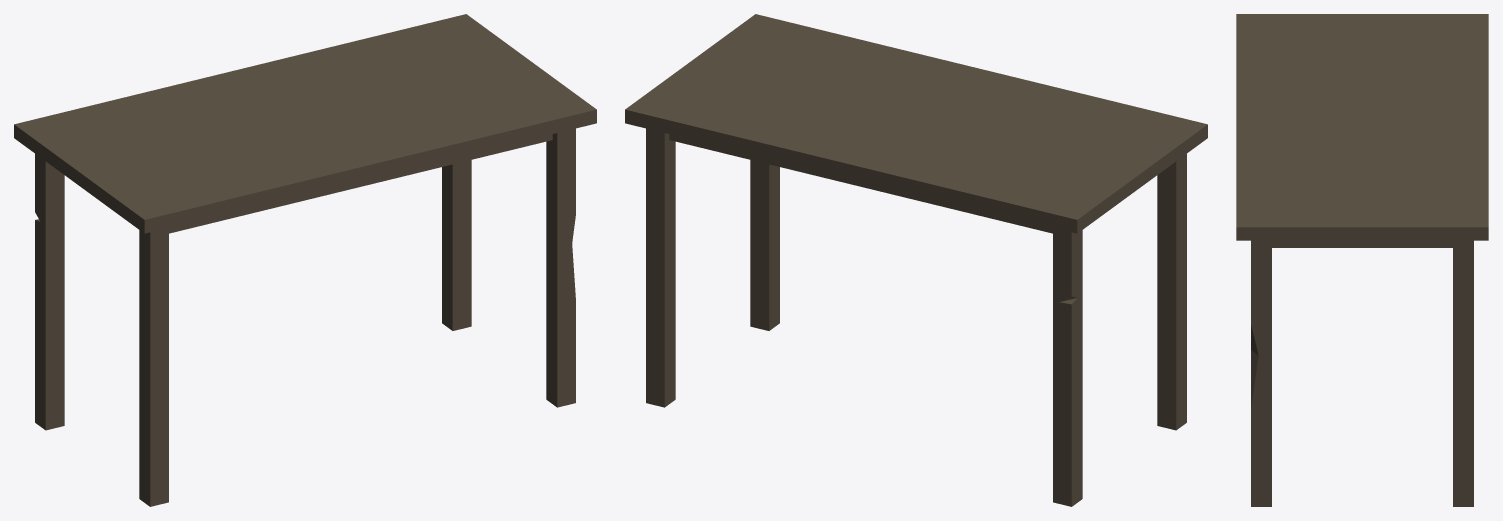
Rendered from SM_Props_Interior_House_Generic_Table_03.fbx.
3 renders of one model, left to right at view 1: azimuth 30°, elevation 25°; view 2: azimuth 150°, elevation 25°; view 3: azimuth 270°, elevation 25°, orthographic. The views are drawn at different scales.
Parts seen in each view (by area): view 1: SM_Props_Interior_House_Generic_Table_03; view 2: SM_Props_Interior_House_Generic_Table_03; view 3: SM_Props_Interior_House_Generic_Table_03.
Part boxes in pixels (x1,y1,x2,y2): SM_Props_Interior_House_Generic_Table_03: (14,14,596,506); SM_Props_Interior_House_Generic_Table_03: (625,14,1207,506); SM_Props_Interior_House_Generic_Table_03: (1236,14,1488,506).
Size of the model in its own units: 120 by 75 by 60.
